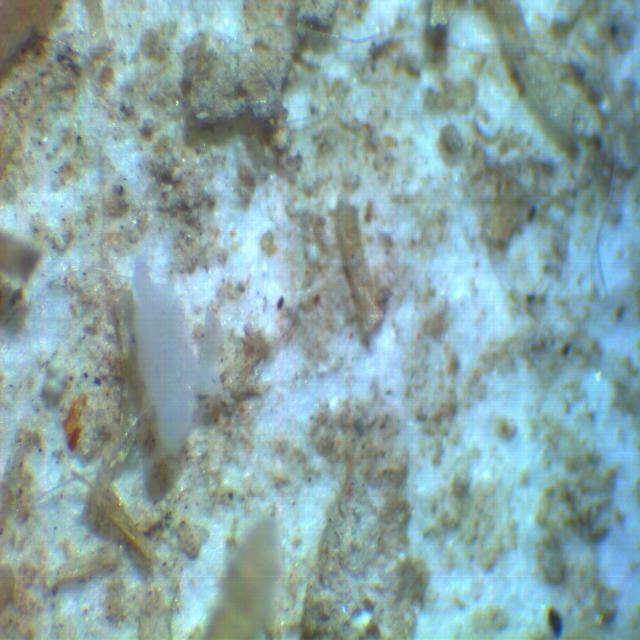microplastic: (127, 247, 225, 460)
